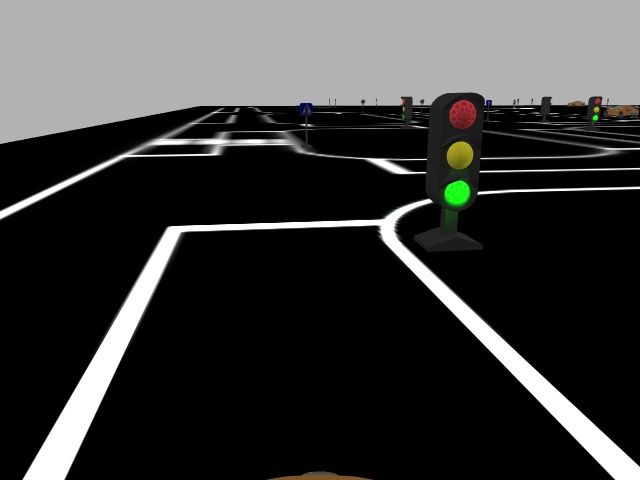green_light: (424, 90, 486, 212)
